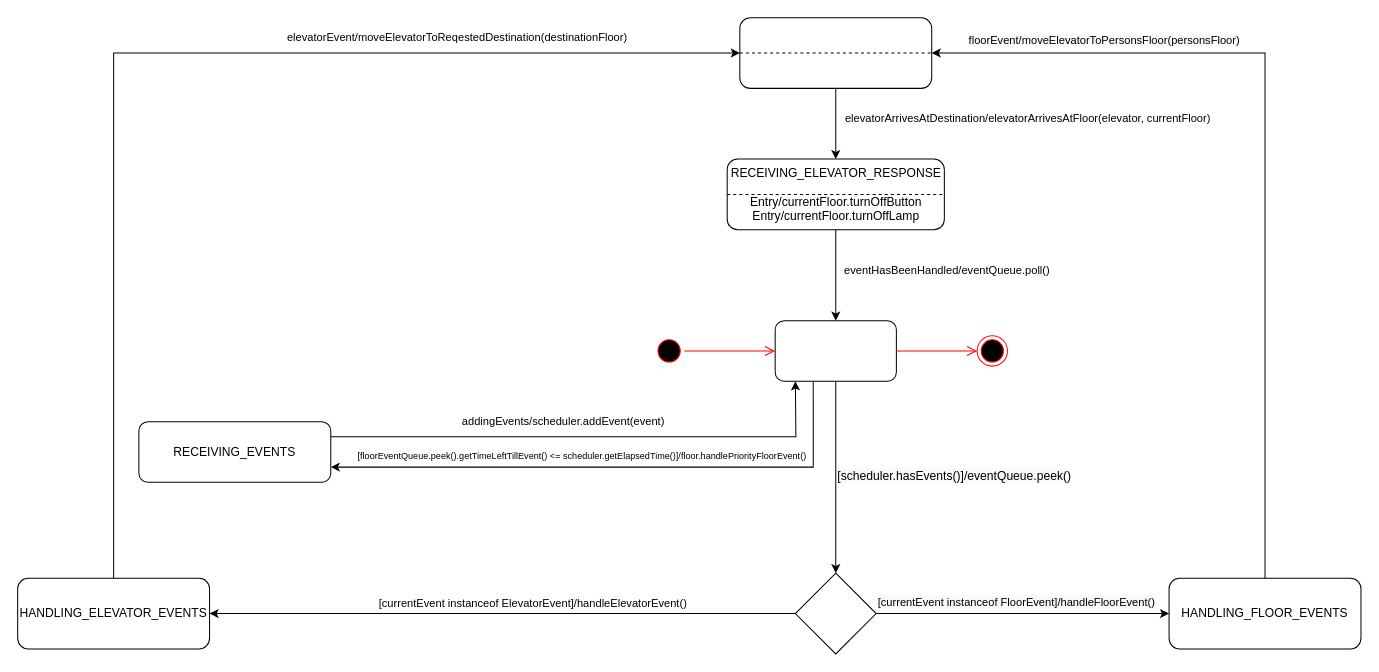
The diagram is 1379 pixels wide and 672 high, and some of its shapes have lost their labels. Here are the shapes that lost their labels. From the top down, the centre of each, then its label:
[835,52]: ROUTING_ELEVATOR Entry/elevator.moveToFloor()
[835,350]: IDLE
